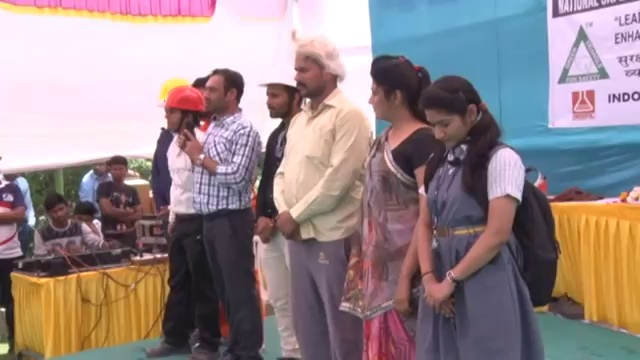helmet: (150, 82, 204, 119), (253, 64, 295, 92)
helmet_off: (419, 74, 492, 160), (366, 54, 423, 128), (286, 40, 345, 98), (196, 71, 246, 118), (43, 193, 70, 227), (72, 201, 97, 228), (106, 156, 129, 185), (90, 161, 108, 179)
helmet_on: (152, 80, 203, 136), (254, 67, 296, 122)
person: (415, 74, 557, 360), (267, 42, 373, 359), (350, 54, 434, 355), (178, 72, 264, 359), (142, 80, 215, 360), (253, 60, 298, 360), (33, 189, 108, 258), (96, 154, 143, 241), (0, 178, 34, 264), (70, 197, 105, 249), (79, 158, 109, 207)
